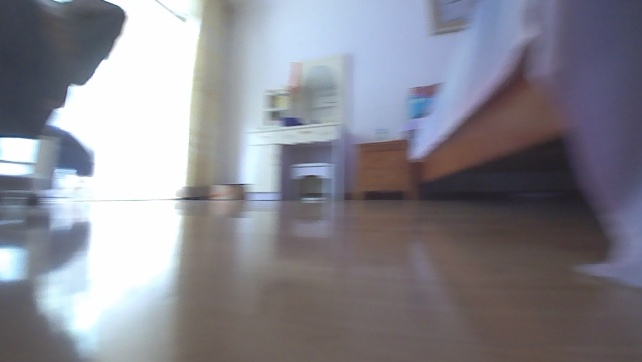bed1: (402, 0, 641, 205)
cabinet: (350, 137, 420, 201)
